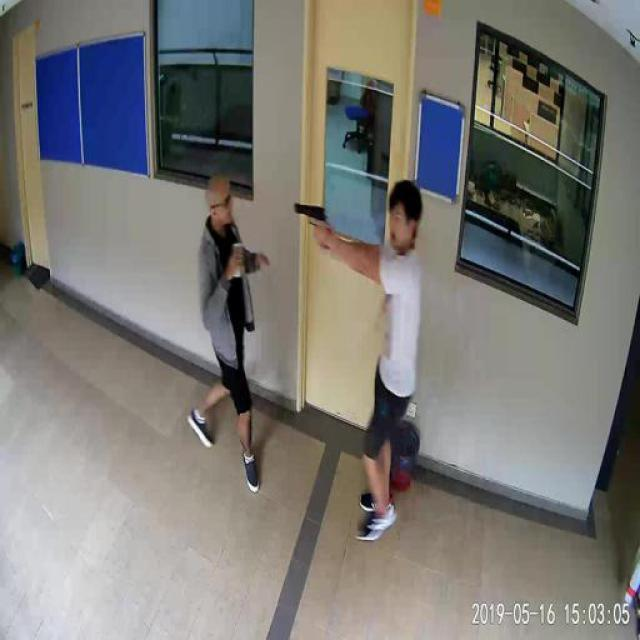weapon: (291, 203, 332, 250)
